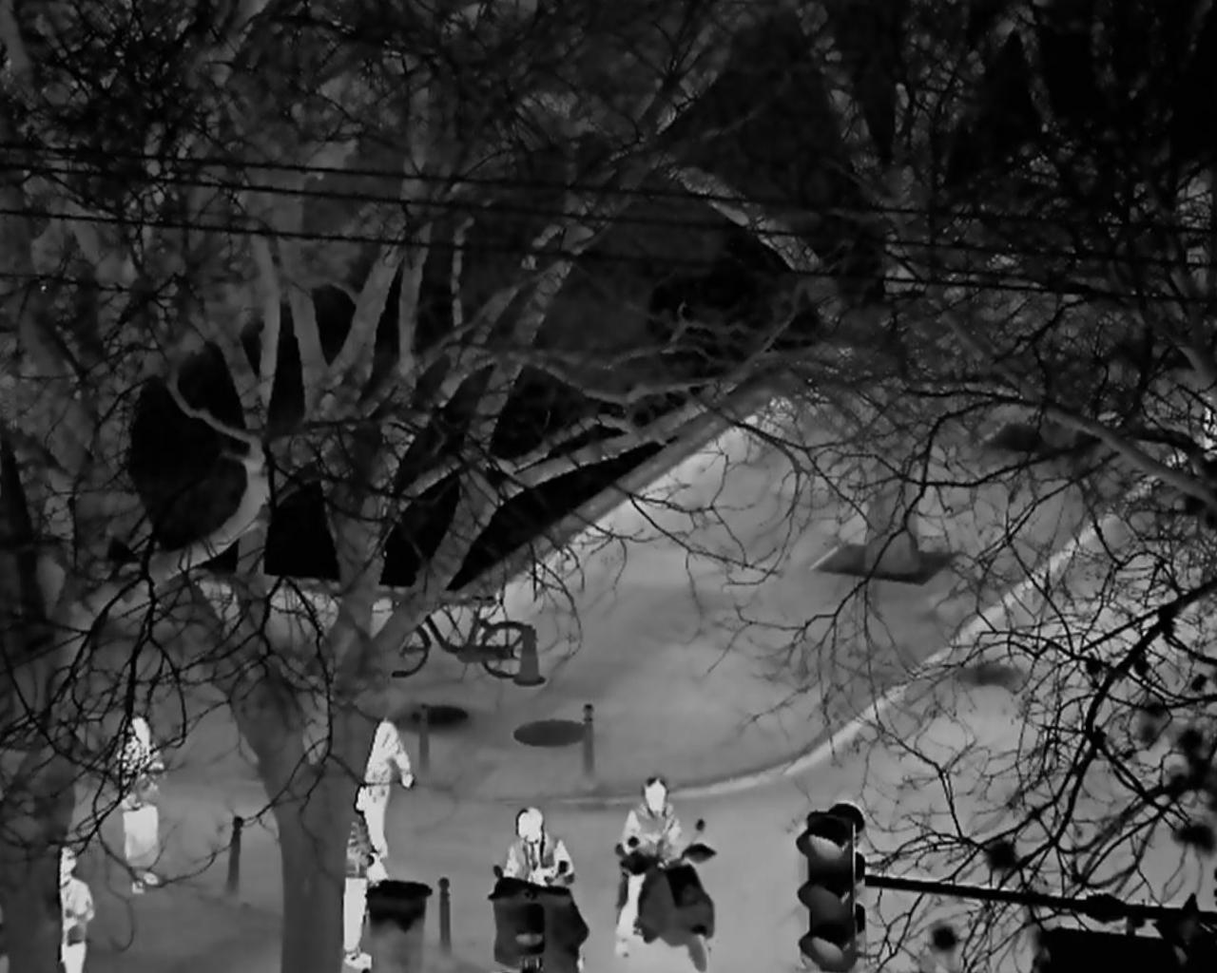person: (612, 774, 685, 959), (116, 715, 167, 896), (361, 717, 415, 857), (344, 787, 380, 969), (501, 805, 576, 887), (60, 845, 97, 973)
